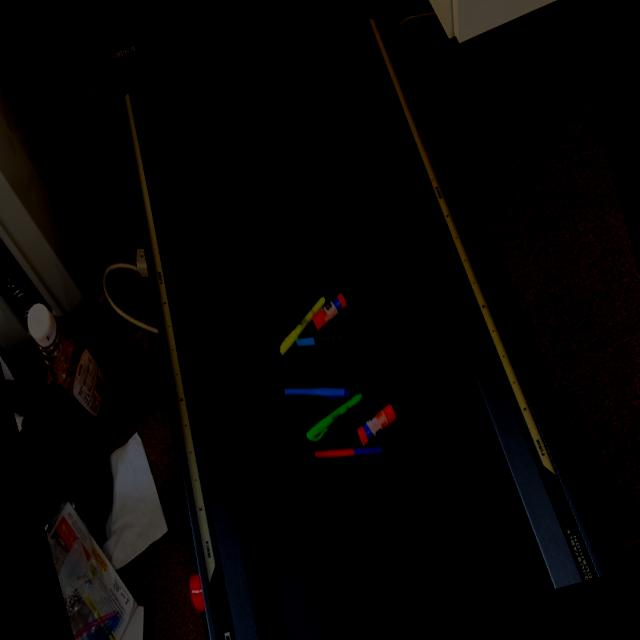Trash: (284, 357, 409, 481), (266, 281, 362, 365)
